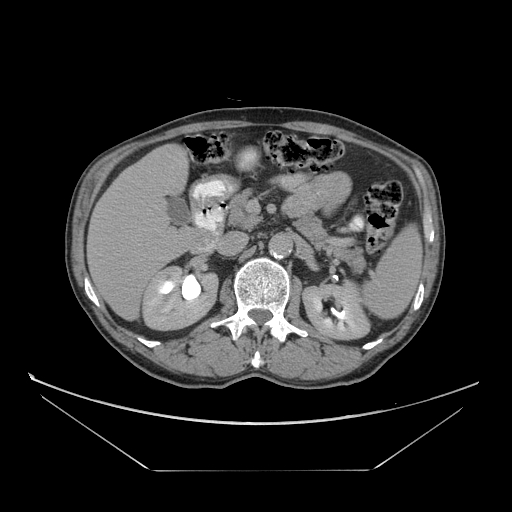left_kidney: (139, 258, 222, 336)
right_kidney: (297, 280, 372, 342)
